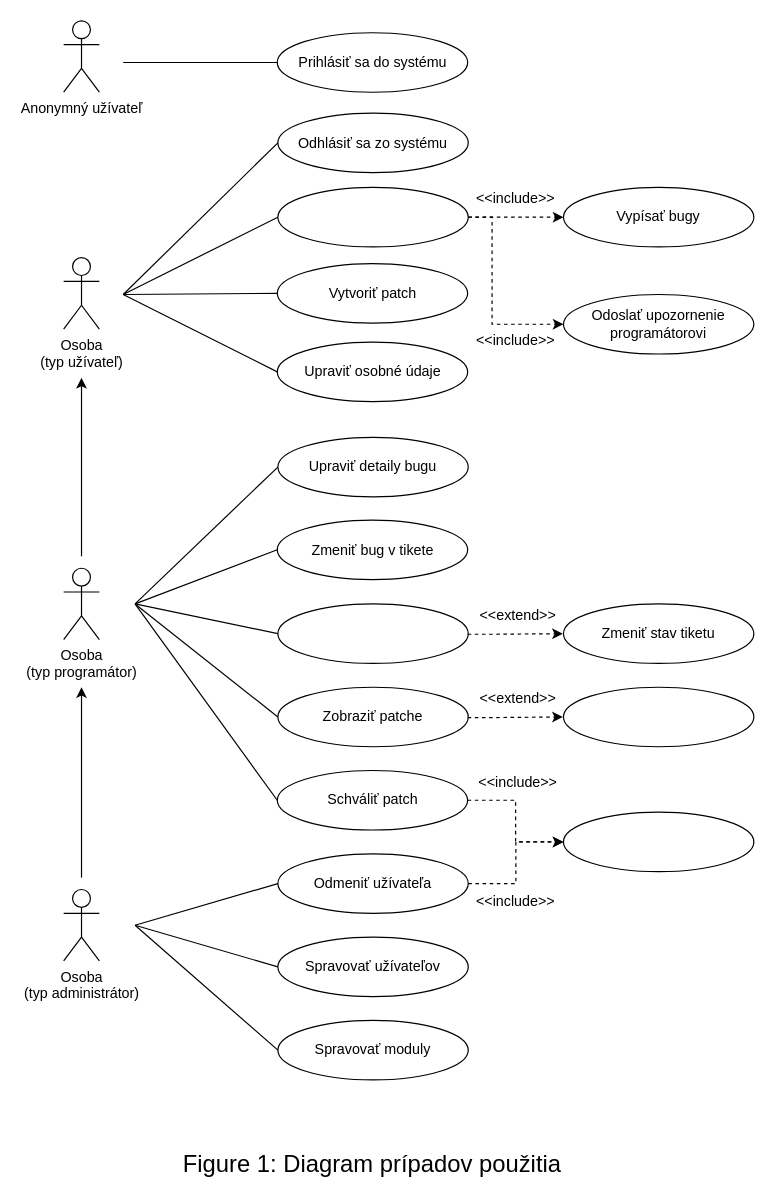
This 775x1198 diagram has some shape labels left out. The shapes that lost their labels are listed below. From the top down, each one's box as (x1, y1, x2, y2) in pixels, then its label:
(277, 186, 468, 247): Vytvoriť tiket
(277, 603, 468, 663): Zobraziť tikety
(562, 686, 754, 747): Upraviť patch
(562, 811, 754, 872): Odoslať upozornenie užívateľovi
